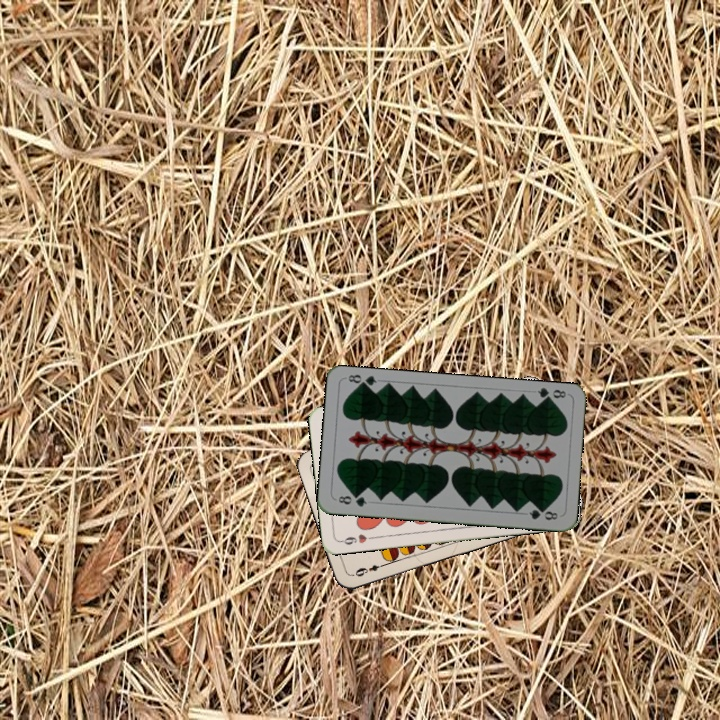E9: (349, 560, 388, 579)
G8: (533, 384, 568, 405), (334, 491, 369, 509)
H9: (336, 530, 377, 548)
